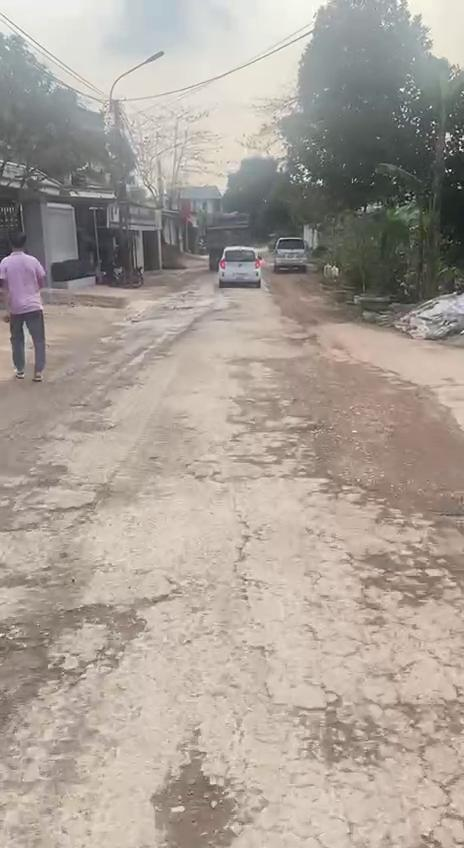pothole: (0, 598, 151, 700), (133, 742, 261, 848), (300, 694, 390, 769), (360, 549, 464, 607)
